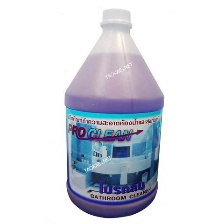cleaning_solution: (61, 6, 165, 219)
